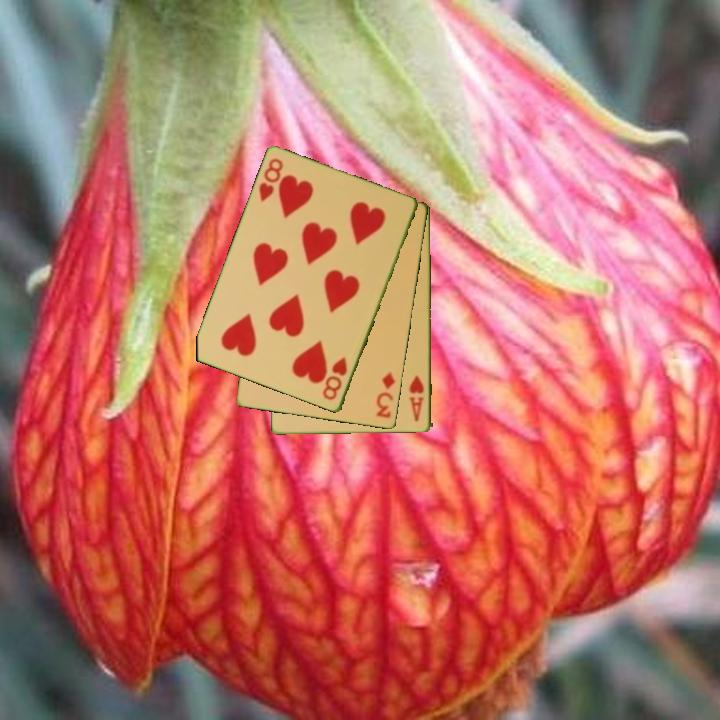3d: (373, 369, 398, 421)
8h: (319, 354, 350, 404), (255, 155, 286, 205)
Ah: (407, 372, 427, 425)
